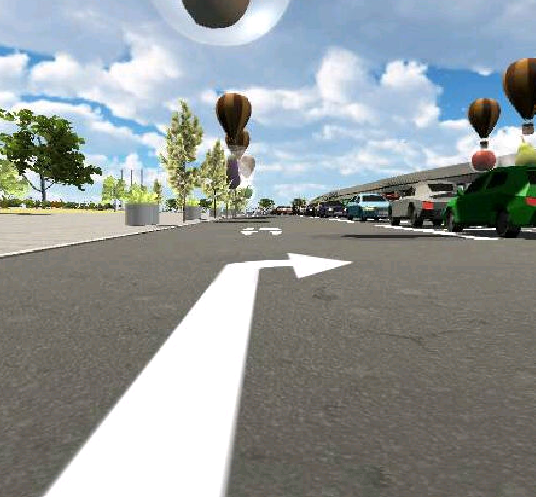ground_right: (212, 250, 353, 279)
